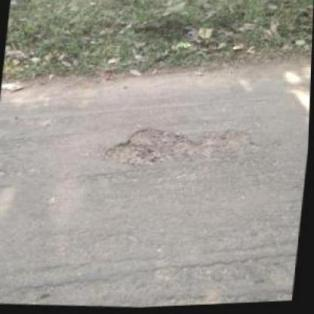Hueco: (98, 119, 260, 177)
